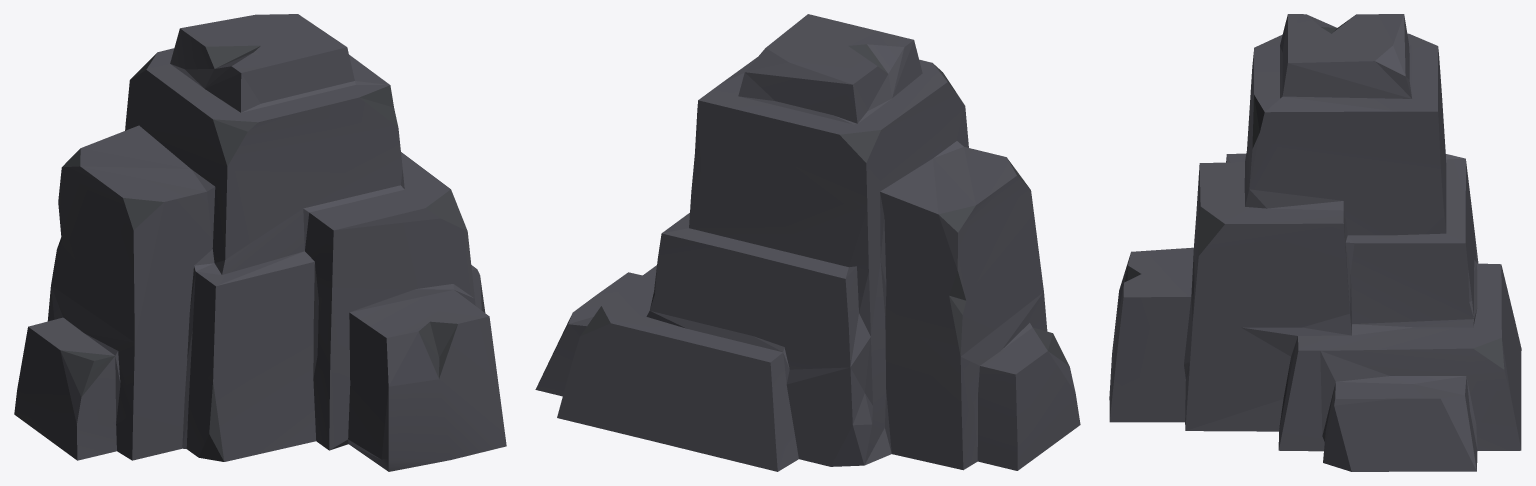
Rendered from SM_Env_RockPile_Square_05.glb.
3 renders of one model, left to right at view 1: azimuth 30°, elevation 25°; view 2: azimuth 150°, elevation 25°; view 3: azimuth 270°, elevation 25°, orthographic. The views are drawn at different scales.
Visible parts, largest first — view 1: SM_Env_RockPile_Square_05; view 2: SM_Env_RockPile_Square_05; view 3: SM_Env_RockPile_Square_05.
Boxes of the visible parts, x1=… form: SM_Env_RockPile_Square_05: x1=14, y1=14, x2=506, y2=471; SM_Env_RockPile_Square_05: x1=535, y1=14, x2=1080, y2=471; SM_Env_RockPile_Square_05: x1=1109, y1=14, x2=1521, y2=471.
Size of the model in its own units: 0.0226 by 0.0169 by 0.0191.
Materials: 1 (1 with a texture image).
